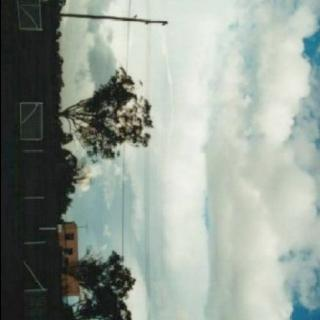Stratus: (116, 0, 320, 320)
